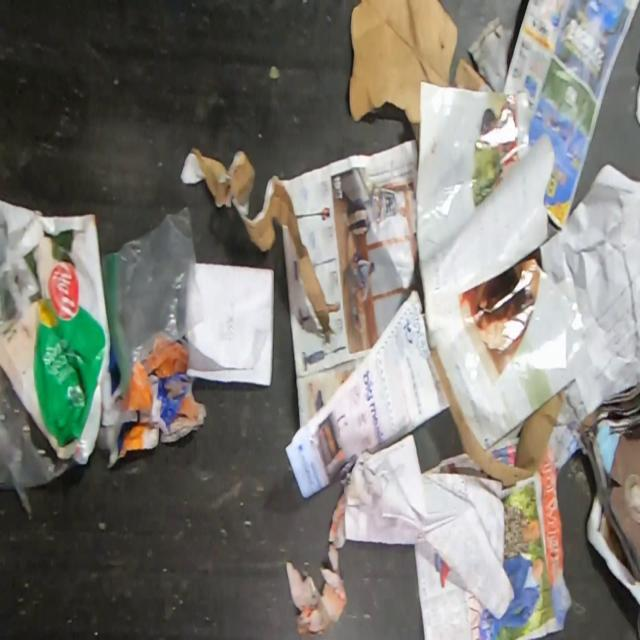cardboard: (178, 145, 332, 336), (348, 0, 496, 150), (429, 345, 569, 489)
soft_plastic: (0, 196, 110, 465), (103, 204, 206, 391), (0, 361, 72, 513)
